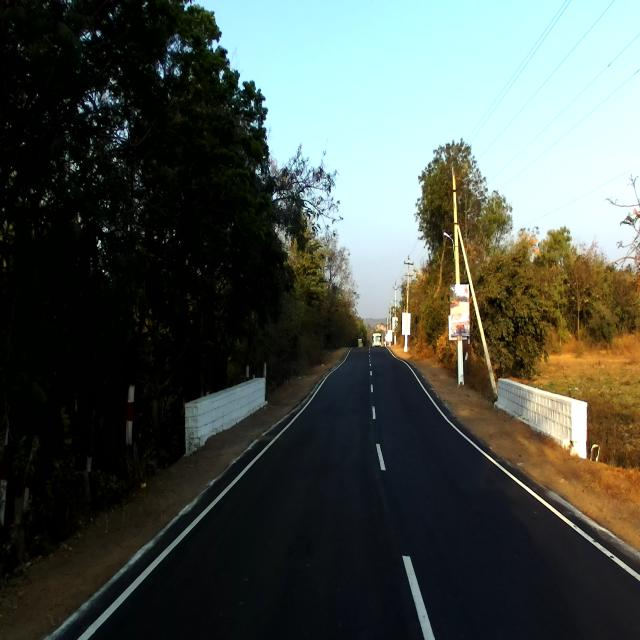electric pole ahead at: (445, 149, 490, 395)
